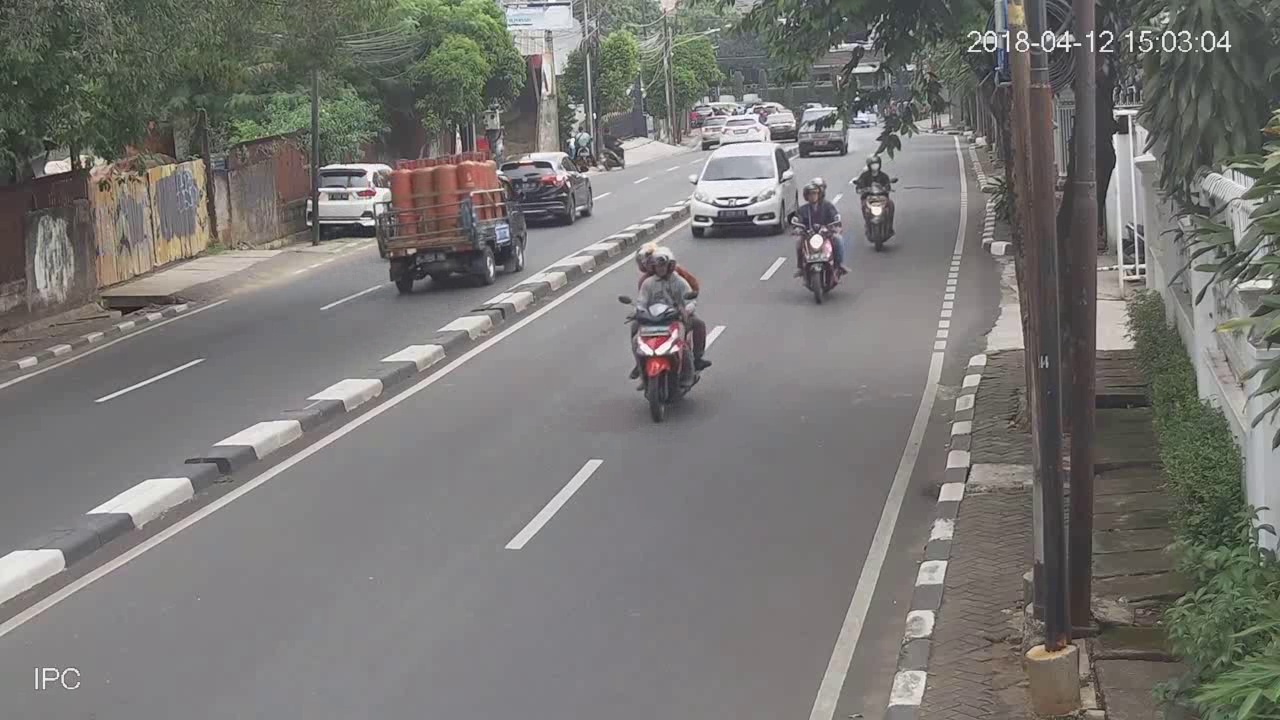car: (497, 146, 599, 228), (305, 158, 381, 234), (793, 105, 847, 161), (720, 112, 768, 146)
motorcycle: (616, 235, 718, 428), (688, 138, 793, 235), (785, 174, 850, 309), (851, 150, 904, 250)
truck: (374, 159, 530, 296)
